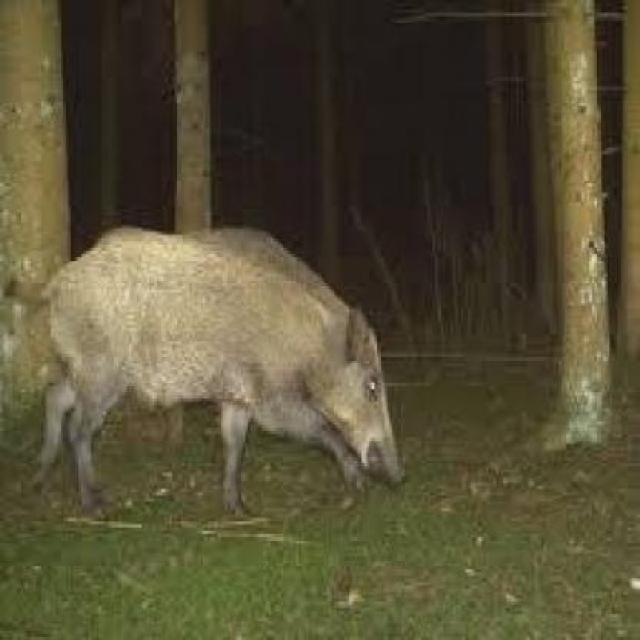wildboar: (0, 218, 412, 521)
